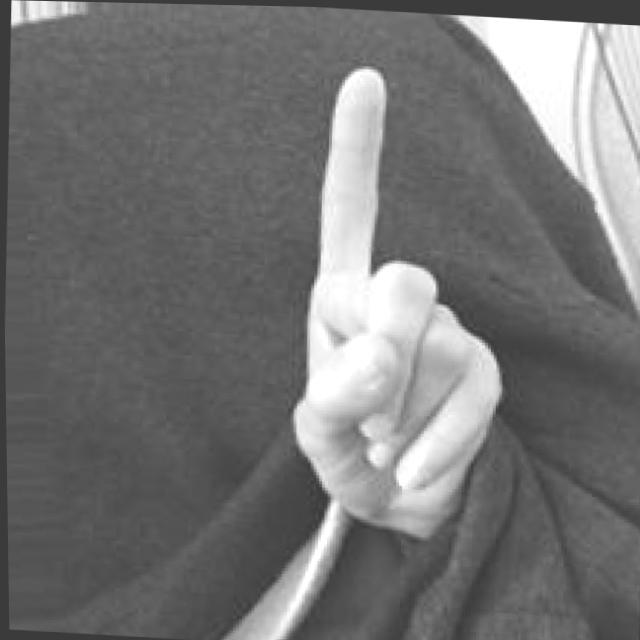I: (273, 56, 519, 556)
